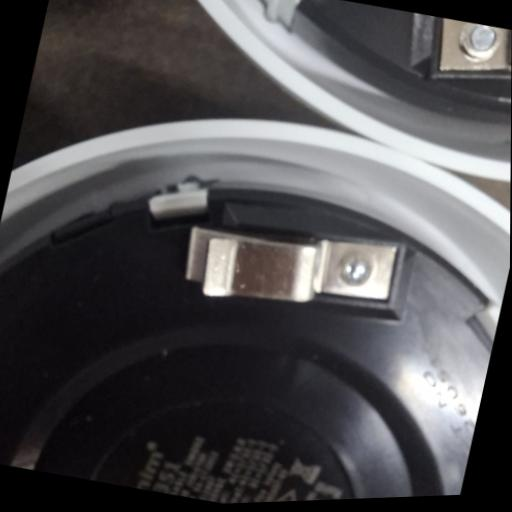yayli: (172, 196, 409, 336)
